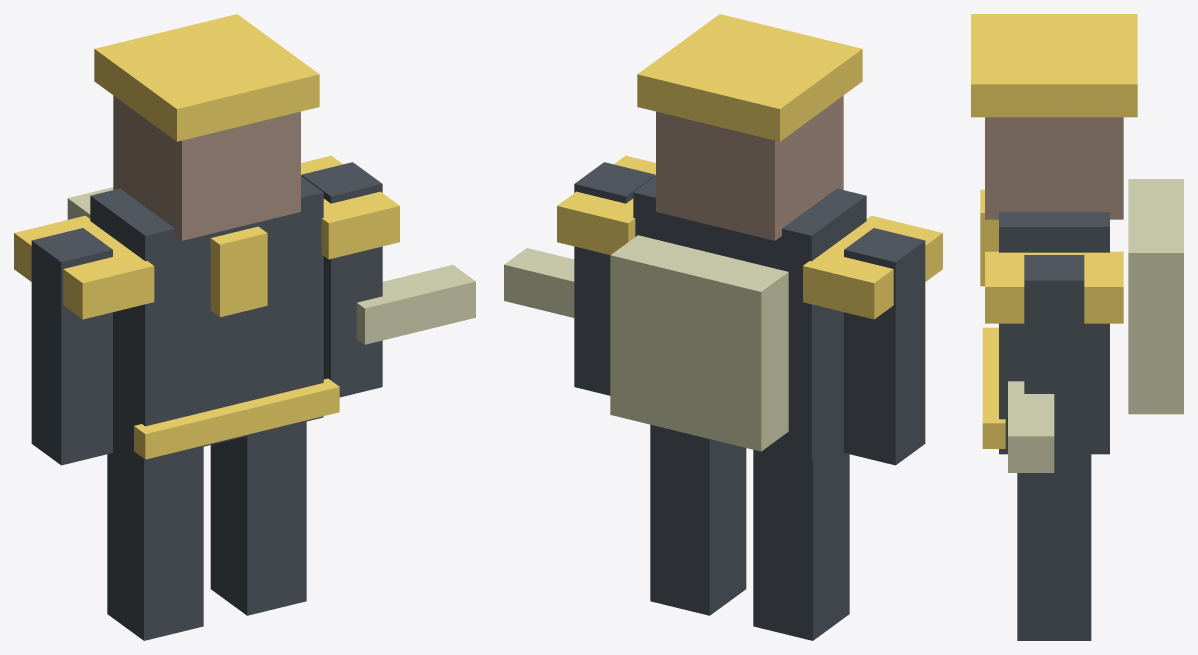
The model's file is 19_edda_tideforged_scout_of_core.glb.
3 views of the same model, side by side, from view 1: azimuth 30°, elevation 25°; view 2: azimuth 150°, elevation 25°; view 3: azimuth 270°, elevation 25° (orthographic).
Visible parts, largest first — view 1: Edda Tideforged, Scout of Core; view 2: Edda Tideforged, Scout of Core; view 3: Edda Tideforged, Scout of Core.
Part boxes in pixels (x1,y1,x2,y2): Edda Tideforged, Scout of Core: [14, 14, 475, 640]; Edda Tideforged, Scout of Core: [504, 14, 942, 640]; Edda Tideforged, Scout of Core: [971, 14, 1183, 640].
Size of the model in its own units: 1.12 by 1.44 by 0.5016.
